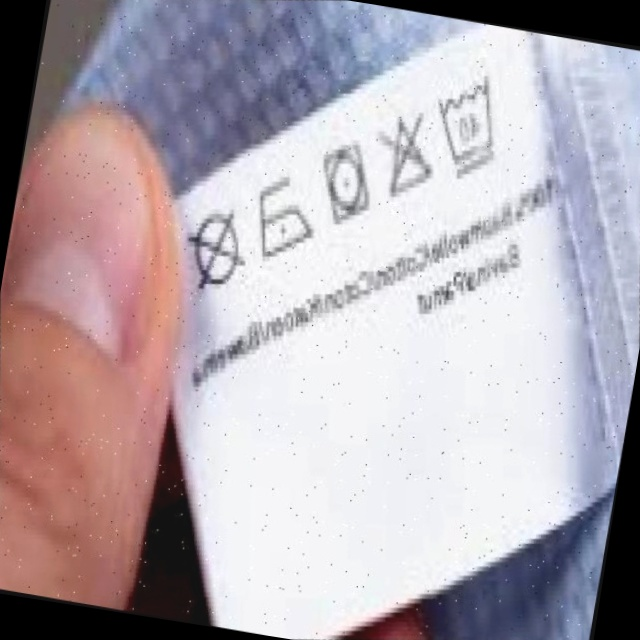40C: (420, 66, 524, 185)
DN_bleach: (362, 103, 452, 209)
DN_dry_clean: (170, 196, 263, 304)
iron_low: (239, 165, 329, 269)
tumble_dry_low: (307, 135, 387, 232)
